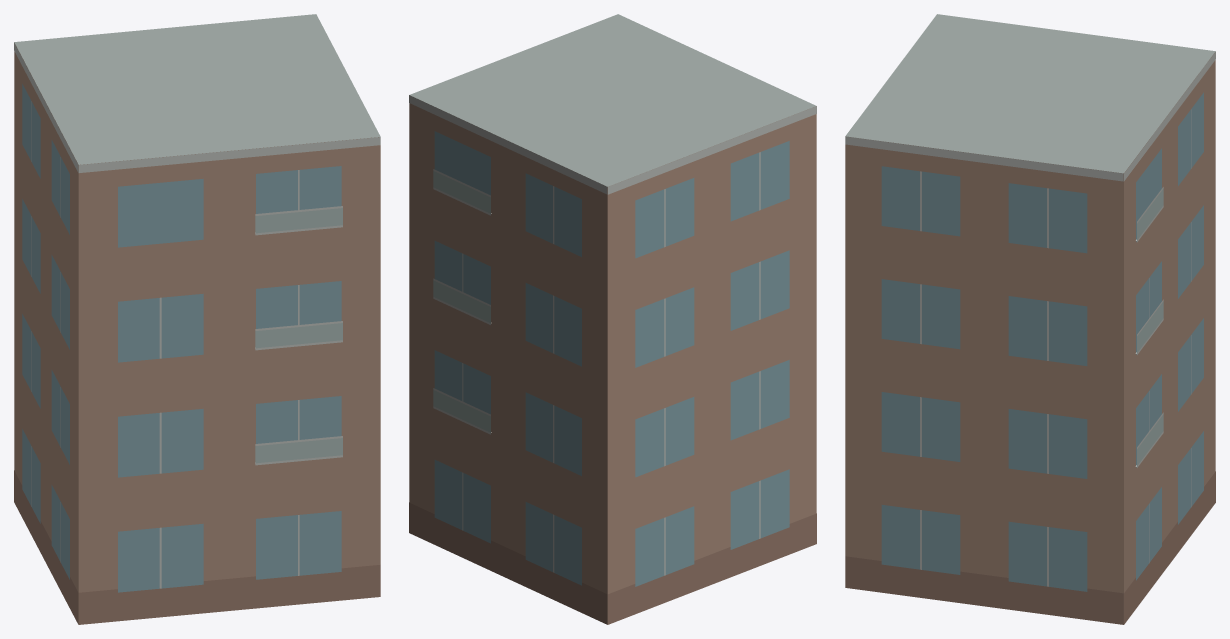
Rendered from survey-upis-33041443.glb.
3 views of the same model, side by side, from view 1: azimuth 30°, elevation 25°; view 2: azimuth 150°, elevation 25°; view 3: azimuth 270°, elevation 25° (orthographic). The views are drawn at different scales.
Visible parts, largest first — view 1: survey-upis-33041443.tmp; view 2: survey-upis-33041443.tmp; view 3: survey-upis-33041443.tmp.
Boxes of the visible parts, x1,y1,x2,y2 form: survey-upis-33041443.tmp: [14, 14, 380, 624]; survey-upis-33041443.tmp: [409, 14, 816, 624]; survey-upis-33041443.tmp: [845, 14, 1215, 624].
Size of the model in its own units: 10.23 by 13.5 by 10.05.
